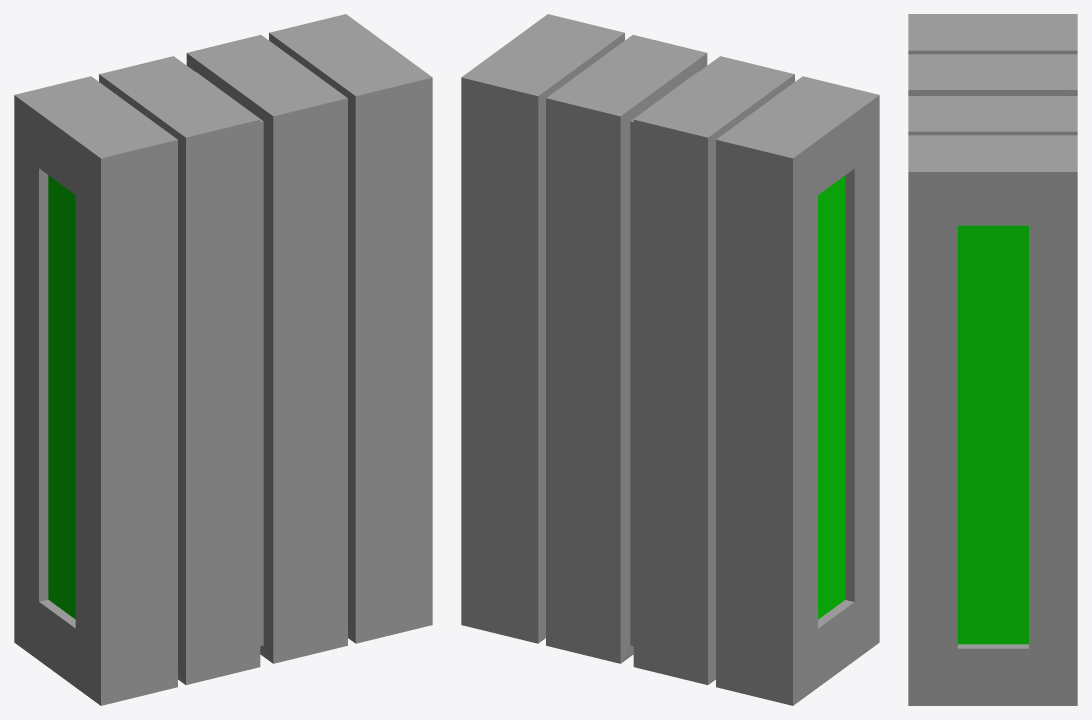
The model's file is Prop_server_lab.fbx.
3 renders of one model, left to right at view 1: azimuth 30°, elevation 25°; view 2: azimuth 150°, elevation 25°; view 3: azimuth 270°, elevation 25°, orthographic. The views are drawn at different scales.
Parts seen in each view (by area): view 1: Server_base; view 2: Server_base; view 3: Server_base.
Part boxes in pixels (<box>): Server_base: <box>14,14,432,705</box>; Server_base: <box>461,14,879,705</box>; Server_base: <box>908,14,1077,705</box>.
Size of the model in its own units: 130 by 205 by 58.8.
